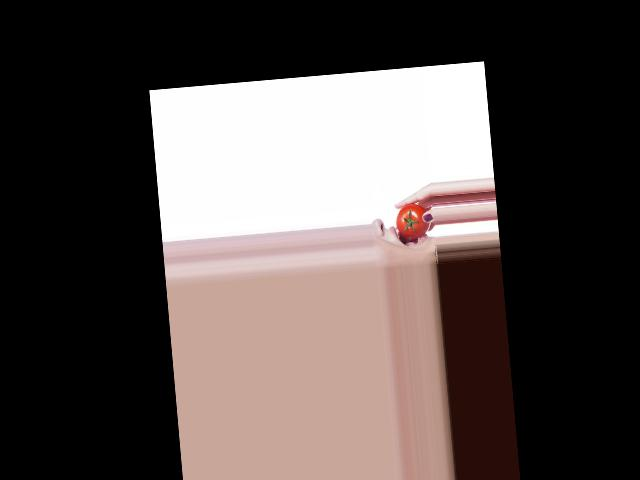tomato: (394, 201, 432, 239)
